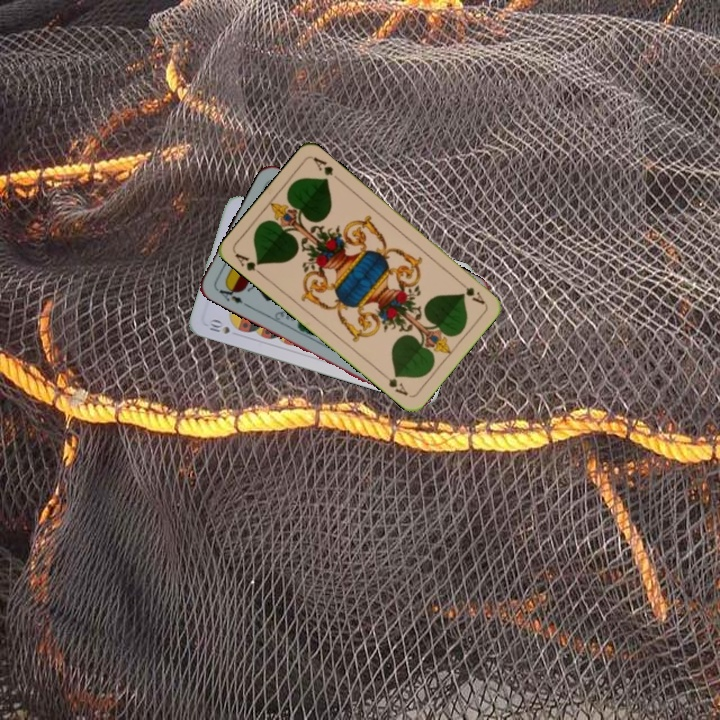EA: (215, 281, 250, 309)
GA: (230, 249, 266, 279), (454, 276, 487, 307)
S10: (205, 316, 232, 336)
